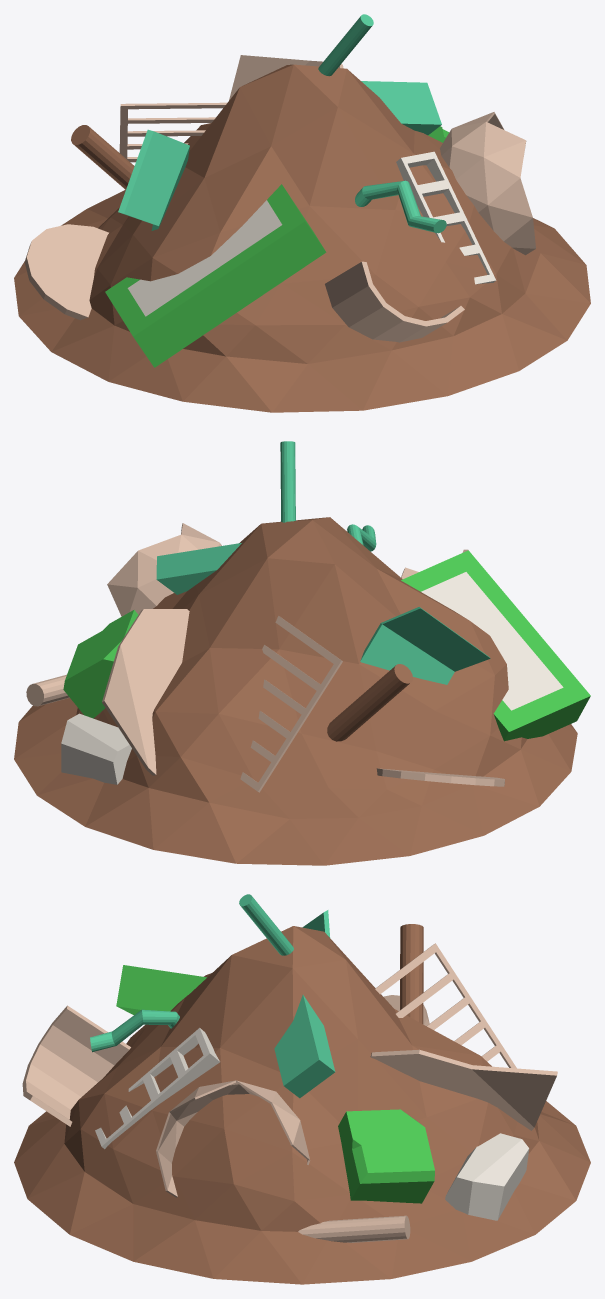
The model's file is Pisces Junk Pile.fbx.
3 views of the same model, one above another, from view 1: azimuth 30°, elevation 25°; view 2: azimuth 150°, elevation 25°; view 3: azimuth 270°, elevation 25° (orthographic). The views are drawn at different scales.
Visible parts, largest first — view 1: Icosphere; view 2: Icosphere; view 3: Icosphere.
Boxes of the visible parts, x1=… form: Icosphere: x1=14, y1=14, x2=590, y2=412; Icosphere: x1=14, y1=441, x2=590, y2=865; Icosphere: x1=14, y1=894, x2=590, y2=1284.
Bounding box in the file's own units: 243 × 132 × 243.
